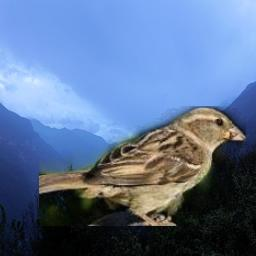Sparrow: (39, 106, 246, 226)
